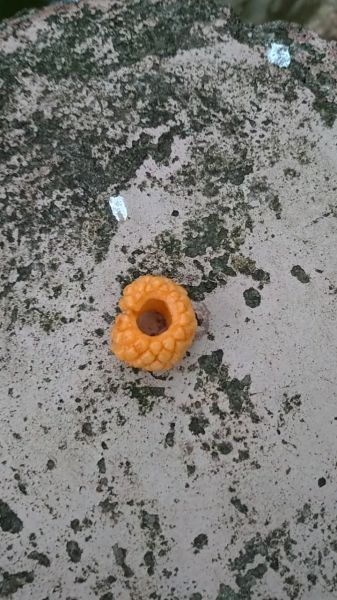eggs: (104, 271, 198, 378)
